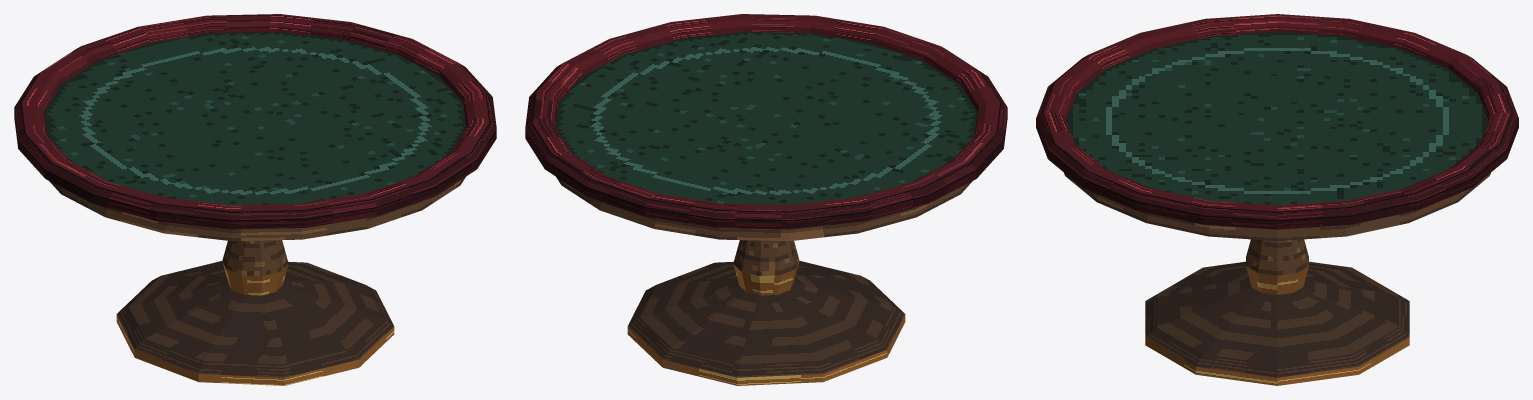
Rendered from table.glb.
3 views of the same model, side by side, from view 1: azimuth 30°, elevation 25°; view 2: azimuth 150°, elevation 25°; view 3: azimuth 270°, elevation 25° (orthographic).
Parts seen in each view (by area): view 1: Table; view 2: Table; view 3: Table.
Part boxes in pixels (bbox=[...]): Table: bbox=[14, 14, 496, 385]; Table: bbox=[525, 14, 1007, 385]; Table: bbox=[1036, 14, 1518, 385].
Size of the model in its own units: 1.6 by 0.786 by 1.6.
Materials: 2 (2 with a texture image).
